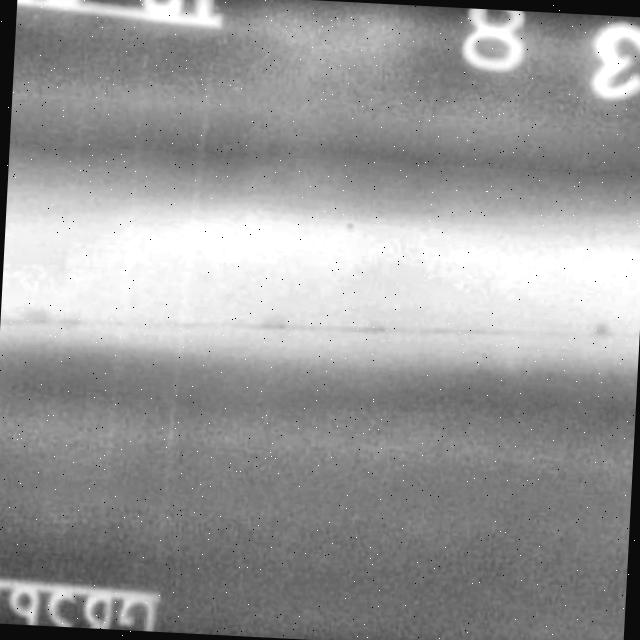LoP-LoF: (0, 276, 640, 372)
